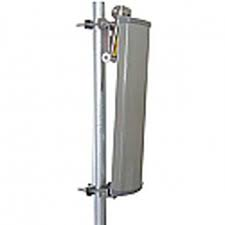sa: (76, 2, 175, 212)
